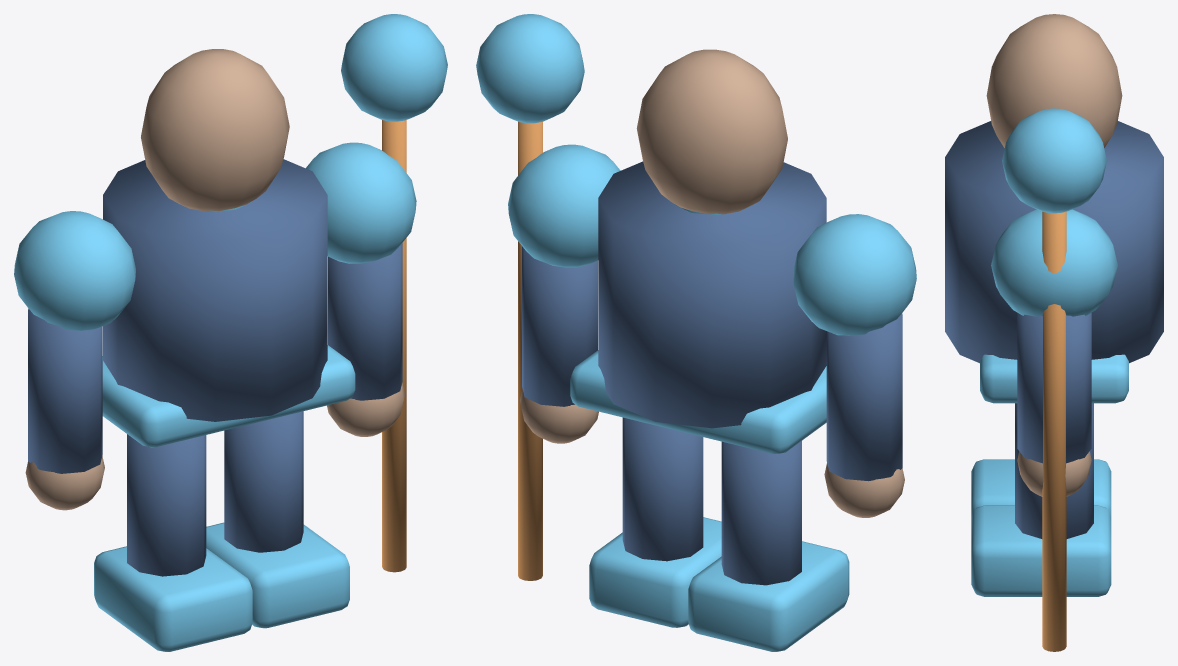
File: Character_4_Placeholder.glb
The picture shows the model from 3 angles, left to right: view 1: azimuth 30°, elevation 25°; view 2: azimuth 150°, elevation 25°; view 3: azimuth 270°, elevation 25°; orthographic projection. The views are drawn at different scales.
Visible parts, largest first — view 1: Character_4_Placeholder_Export; view 2: Character_4_Placeholder_Export; view 3: Character_4_Placeholder_Export.
Part boxes in pixels (x1=…): Character_4_Placeholder_Export: x1=14, y1=14, x2=447, y2=651; Character_4_Placeholder_Export: x1=476, y1=14, x2=916, y2=651; Character_4_Placeholder_Export: x1=945, y1=14, x2=1163, y2=651.
Size of the model in its own units: 129 by 164 by 60.
